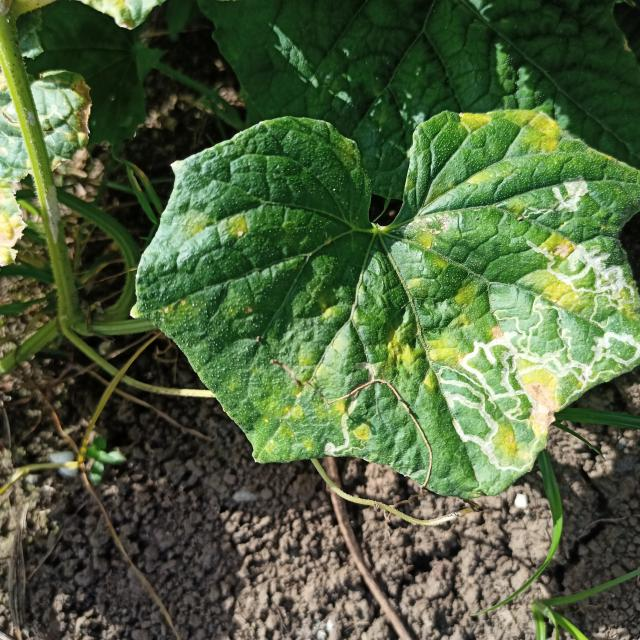disease_cucumber: (381, 205, 640, 479), (262, 304, 384, 464), (447, 108, 564, 191), (179, 204, 253, 242)
